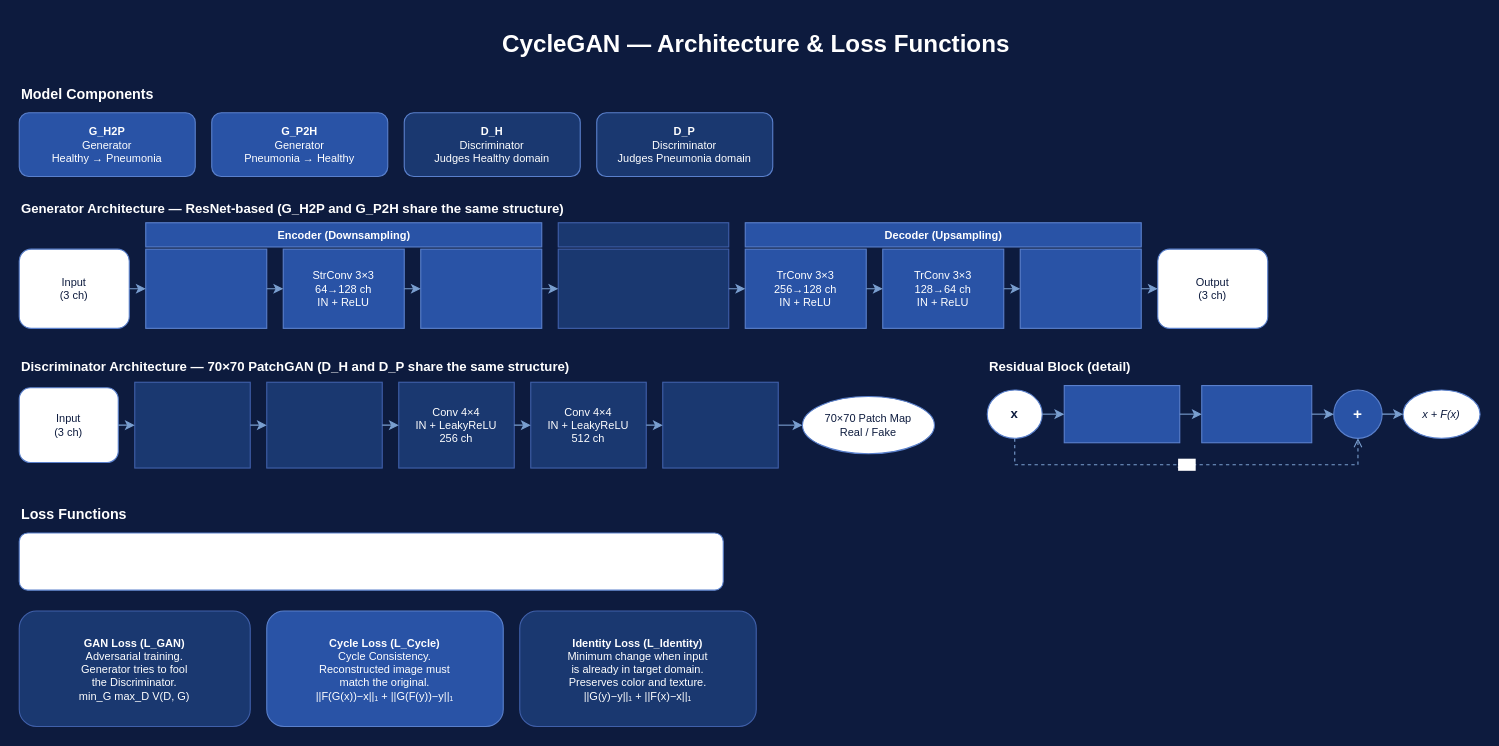
Some shapes in this 1499 by 746 pixel diagram are drawn without their labels. The shapes that lost their labels are listed below. From the top down, each one's centre as x and y in pixels, then its label:
(643,234): Transformer
(206,288): Conv 7×7 64 ch IN + ReLU
(481,288): StrConv 3×3 128→256 ch IN + ReLU
(643,288): 6 × Residual Block 256 ch (Conv + IN + ReLU)
(1080,288): Conv 7×7 64→3 ch Tanh
(192,424): Conv 4×4 LeakyReLU 64 ch
(324,424): Conv 4×4 IN + LeakyReLU 128 ch
(720,424): Conv 4×4 1 ch output
(1121,413): Conv 3×3 IN + ReLU
(1256,413): Conv 3×3 IN
(370,561): L_G = L_GAN + λ · L_Cycle + λ_id · L_Identity
